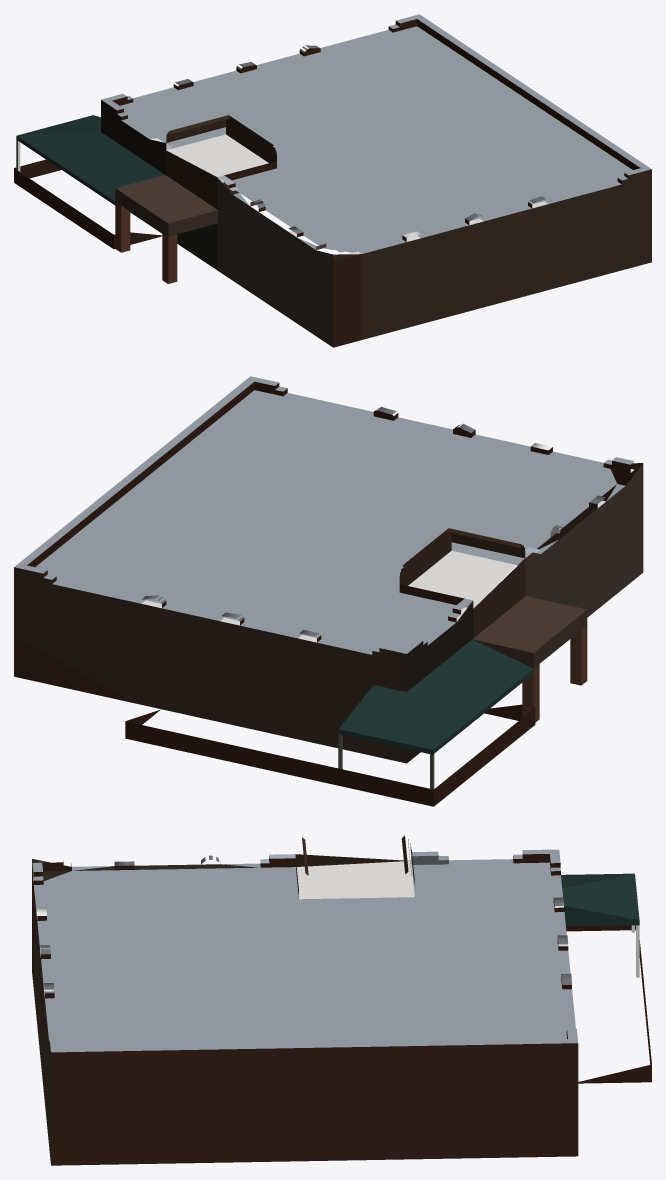
File: chilis.glb
The picture shows the model from 3 angles, top to bottom: view 1: azimuth 30°, elevation 25°; view 2: azimuth 150°, elevation 25°; view 3: azimuth 270°, elevation 25°; orthographic projection. The views are drawn at different scales.
Parts seen in each view (by area): view 1: LOD0; view 2: LOD0; view 3: LOD0.
Part boxes in pixels (x1,y1,x2,y2): LOD0: (14, 14, 651, 347); LOD0: (14, 376, 643, 806); LOD0: (32, 835, 651, 1165).
Size of what is drawn, in the model's own units: 25.88 by 6.67 by 29.63.
2 materials, 2 textured.
